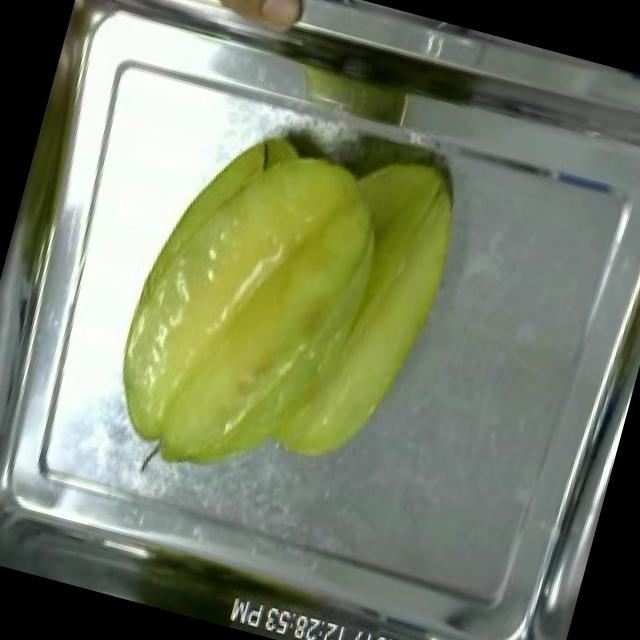fruit: (88, 92, 491, 520), (77, 0, 319, 48)
